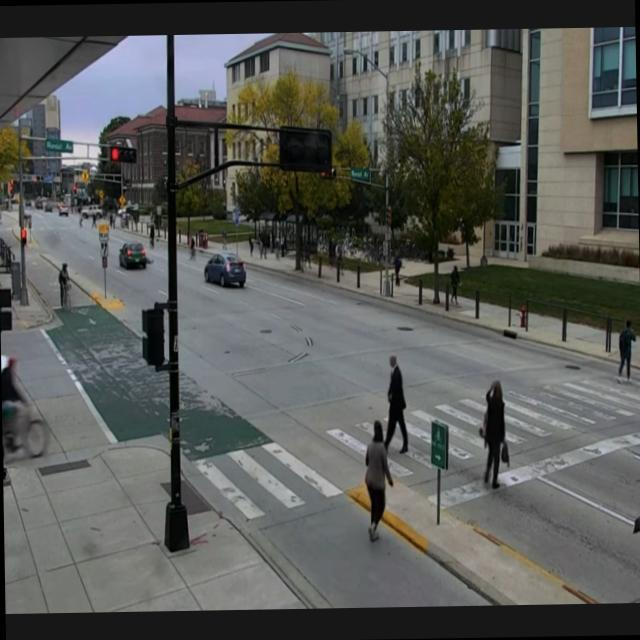Walking: (34, 232, 98, 342), (435, 244, 479, 342), (376, 207, 413, 298)
crossing: (452, 338, 538, 514), (362, 316, 431, 482), (340, 414, 402, 558), (599, 293, 640, 401)
